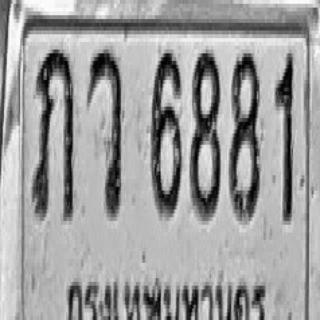A32: (32, 46, 74, 221)
A37: (87, 46, 122, 217)
N01: (274, 52, 293, 223)
N06: (150, 49, 182, 217)
N08: (228, 50, 260, 221), (190, 48, 220, 219)
